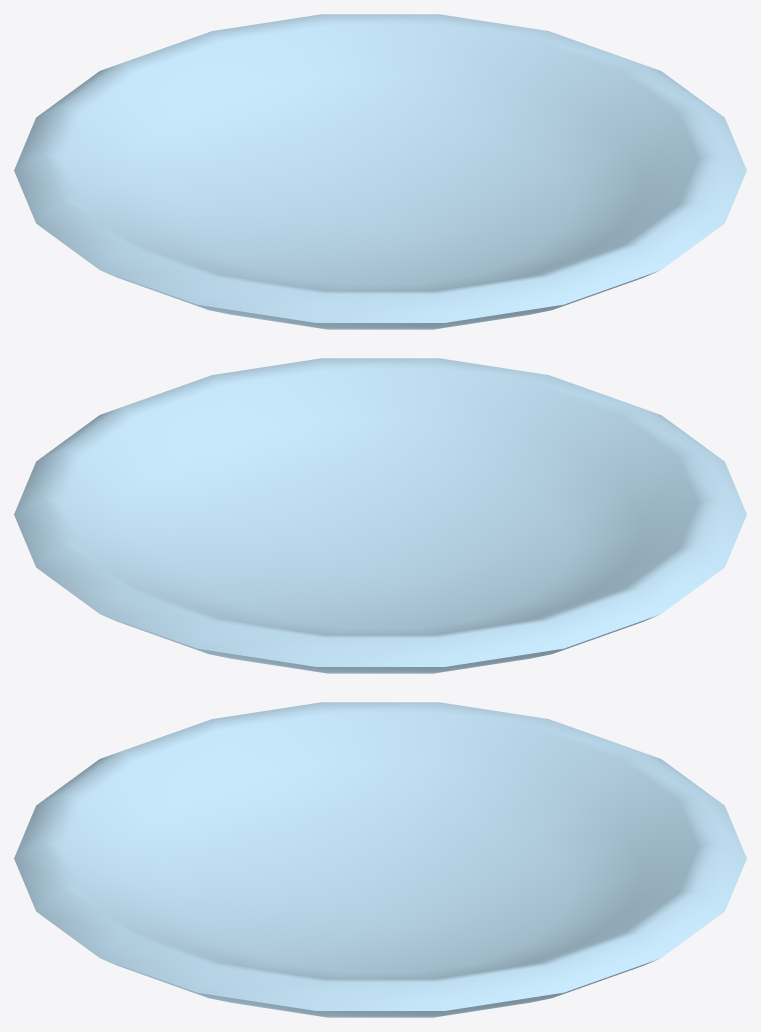
The model's file is sushi-Environment_Plate.glb.
3 renders of one model, top to bottom at view 1: azimuth 30°, elevation 25°; view 2: azimuth 150°, elevation 25°; view 3: azimuth 270°, elevation 25°, orthographic.
Parts seen in each view (by area): view 1: Environment_Plate; view 2: Environment_Plate; view 3: Environment_Plate.
Part boxes in pixels (x1=…): Environment_Plate: x1=14, y1=14, x2=746, y2=329; Environment_Plate: x1=14, y1=358, x2=746, y2=673; Environment_Plate: x1=14, y1=702, x2=746, y2=1017.
Bounding box in the file's own units: 1 × 0.1479 × 1.02.
Materials: 1 (1 with a texture image).
